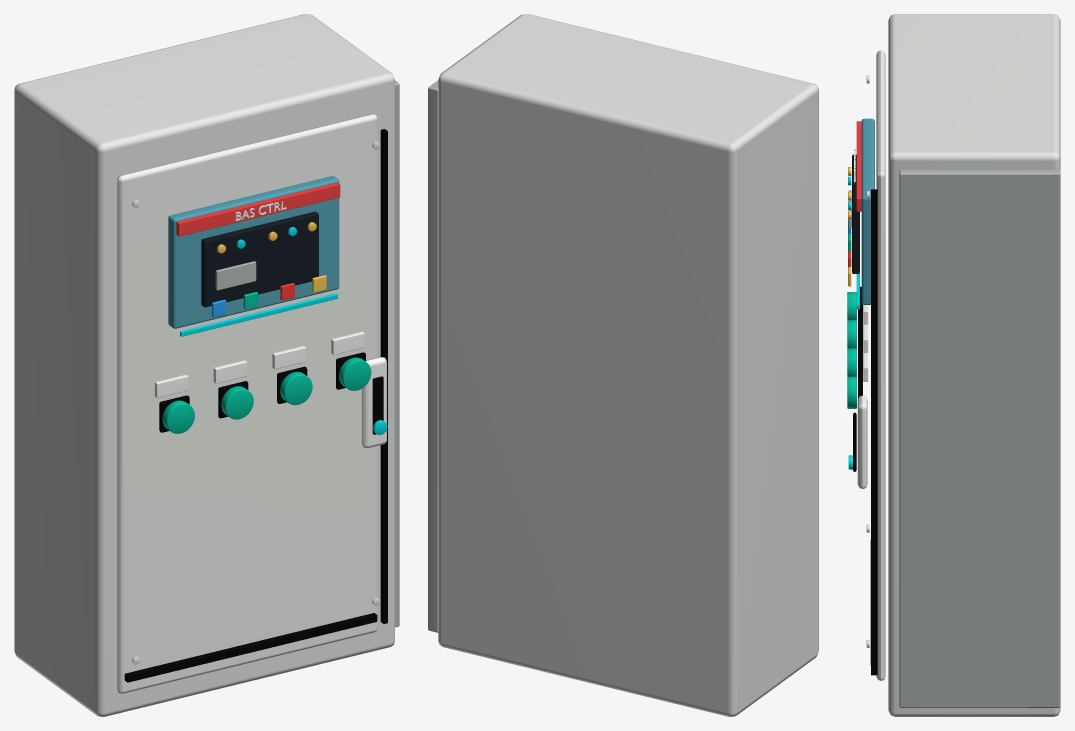
The model's file is control-cabinet.glb.
The picture shows the model from 3 angles, left to right: view 1: azimuth 30°, elevation 25°; view 2: azimuth 150°, elevation 25°; view 3: azimuth 270°, elevation 25°; orthographic projection.
Parts seen in each view (by area): view 1: smooth front cabinet door, clean rectangular control cabinet shell, upper blue grey controller fascia, black inset hmi module, thin right door reveal line, subtle darker right side face, thin bottom shadow gap, red title strip on controller, white recessed door handle, thin lower cyan accent line, small hmi display window, green industrial push button 0 (+3 smaller); view 2: clean rectangular control cabinet shell, subtle darker right side face; view 3: subtle darker right side face, clean rectangular control cabinet shell, smooth front cabinet door, thin right door reveal line, upper blue grey controller fascia, white recessed door handle, black inset hmi module, red title strip on controller.
Part boxes in pixels (box(x1,y1,x2,y2)): smooth front cabinet door: box(117, 114, 377, 693); clean rectangular control cabinet shell: box(14, 14, 394, 716); upper blue grey controller fascia: box(168, 176, 339, 328); black inset hmi module: box(201, 211, 318, 307); thin right door reveal line: box(380, 129, 387, 623); subtle darker right side face: box(395, 80, 399, 627); thin bottom shadow gap: box(124, 613, 377, 682); red title strip on controller: box(176, 182, 340, 236); white recessed door handle: box(361, 357, 386, 448); thin lower cyan accent line: box(180, 293, 337, 336); small hmi display window: box(215, 261, 256, 290); green industrial push button 0: box(162, 400, 194, 433); clean rectangular control cabinet shell: box(438, 14, 818, 716); subtle darker right side face: box(428, 80, 438, 632); subtle darker right side face: box(899, 169, 1060, 707); clean rectangular control cabinet shell: box(888, 14, 1060, 716); smooth front cabinet door: box(876, 50, 885, 680); thin right door reveal line: box(871, 189, 877, 675); upper blue grey controller fascia: box(861, 118, 874, 304); white recessed door handle: box(857, 395, 867, 488); black inset hmi module: box(852, 154, 859, 273); red title strip on controller: box(856, 121, 861, 211).
Bounding box in the file's own units: 1.25 × 2.24 × 0.7675.
